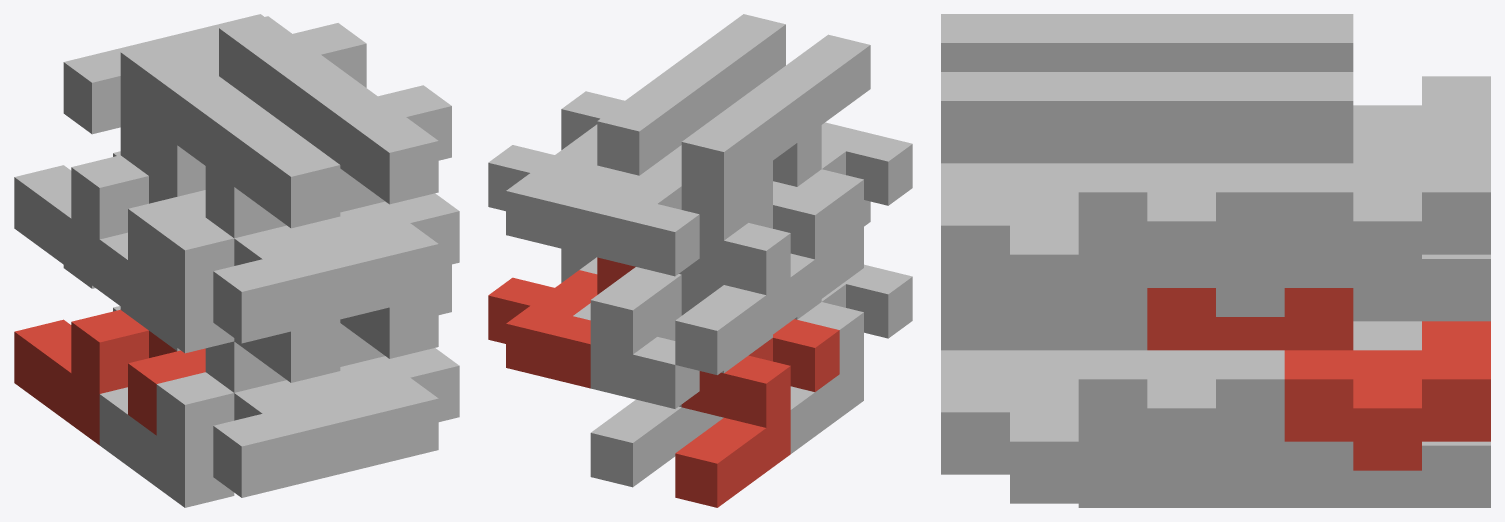
File: tiling.obj
The picture shows the model from 3 angles, left to right: view 1: azimuth 30°, elevation 25°; view 2: azimuth 150°, elevation 25°; view 3: azimuth 270°, elevation 25°; orthographic projection. The views are drawn at different scales.
Visible parts, largest first — view 1: copy_1_domain_4, copy_1_domain_2, copy_2_domain_4, copy_2_domain_3, copy_1_domain_3, copy_1_domain_1, copy_2_domain_8, copy_1_domain_6, copy_1_domain_8, copy_2_domain_7, copy_2_domain_2, copy_2_domain_6; view 2: copy_2_domain_3, copy_2_domain_7, copy_1_domain_3, copy_1_domain_1, copy_1_domain_4, copy_2_domain_5, copy_1_domain_2, copy_2_domain_4, copy_2_domain_8, copy_2_domain_1, copy_1_domain_5, copy_1_domain_7 (+1 smaller); view 3: copy_2_domain_7, copy_2_domain_8, copy_2_domain_5, copy_2_domain_6, copy_1_domain_6, copy_2_domain_3, copy_1_domain_8, copy_1_domain_5, copy_1_domain_7, copy_2_domain_4, copy_1_domain_2, copy_1_domain_4 (+1 smaller).
Boxes of the visible parts, box(x1,y1,x2,y2) form: copy_1_domain_4: box(99, 217, 360, 353); copy_1_domain_2: box(99, 372, 360, 507); copy_2_domain_4: box(149, 102, 340, 238); copy_2_domain_3: box(63, 38, 254, 175); copy_1_domain_3: box(14, 155, 205, 290); copy_1_domain_1: box(14, 309, 205, 445); copy_2_domain_8: box(304, 78, 451, 212); copy_1_domain_6: box(312, 348, 459, 473); copy_1_domain_8: box(312, 193, 459, 319); copy_2_domain_7: box(162, 14, 366, 138); copy_2_domain_2: box(149, 319, 340, 392); copy_2_domain_6: box(340, 264, 451, 366); copy_2_domain_3: box(573, 88, 797, 276); copy_2_domain_7: box(488, 67, 712, 255); copy_1_domain_3: box(675, 181, 839, 374); copy_1_domain_1: box(675, 319, 839, 507); copy_1_domain_4: box(790, 123, 912, 321); copy_2_domain_5: box(488, 257, 635, 388); copy_1_domain_2: box(790, 264, 912, 453); copy_2_domain_4: box(664, 34, 870, 222); copy_2_domain_8: box(561, 14, 785, 149); copy_2_domain_1: box(573, 274, 748, 408); copy_1_domain_5: box(590, 399, 705, 487); copy_1_domain_7: box(590, 267, 681, 354); copy_2_domain_7: box(1147, 72, 1490, 283); copy_2_domain_8: box(941, 72, 1284, 283); copy_2_domain_5: box(1147, 288, 1490, 470); copy_2_domain_6: box(941, 288, 1284, 470); copy_1_domain_6: box(941, 354, 1284, 507); copy_2_domain_3: box(1147, 14, 1490, 163); copy_1_domain_8: box(941, 167, 1147, 316); copy_1_domain_5: box(1147, 441, 1490, 507); copy_1_domain_7: box(1147, 254, 1490, 321); copy_2_domain_4: box(941, 14, 1147, 71); copy_1_domain_2: box(941, 350, 1078, 383); copy_1_domain_4: box(941, 163, 1078, 196).
Bounding box in the file's own units: 6 × 7 × 8.
